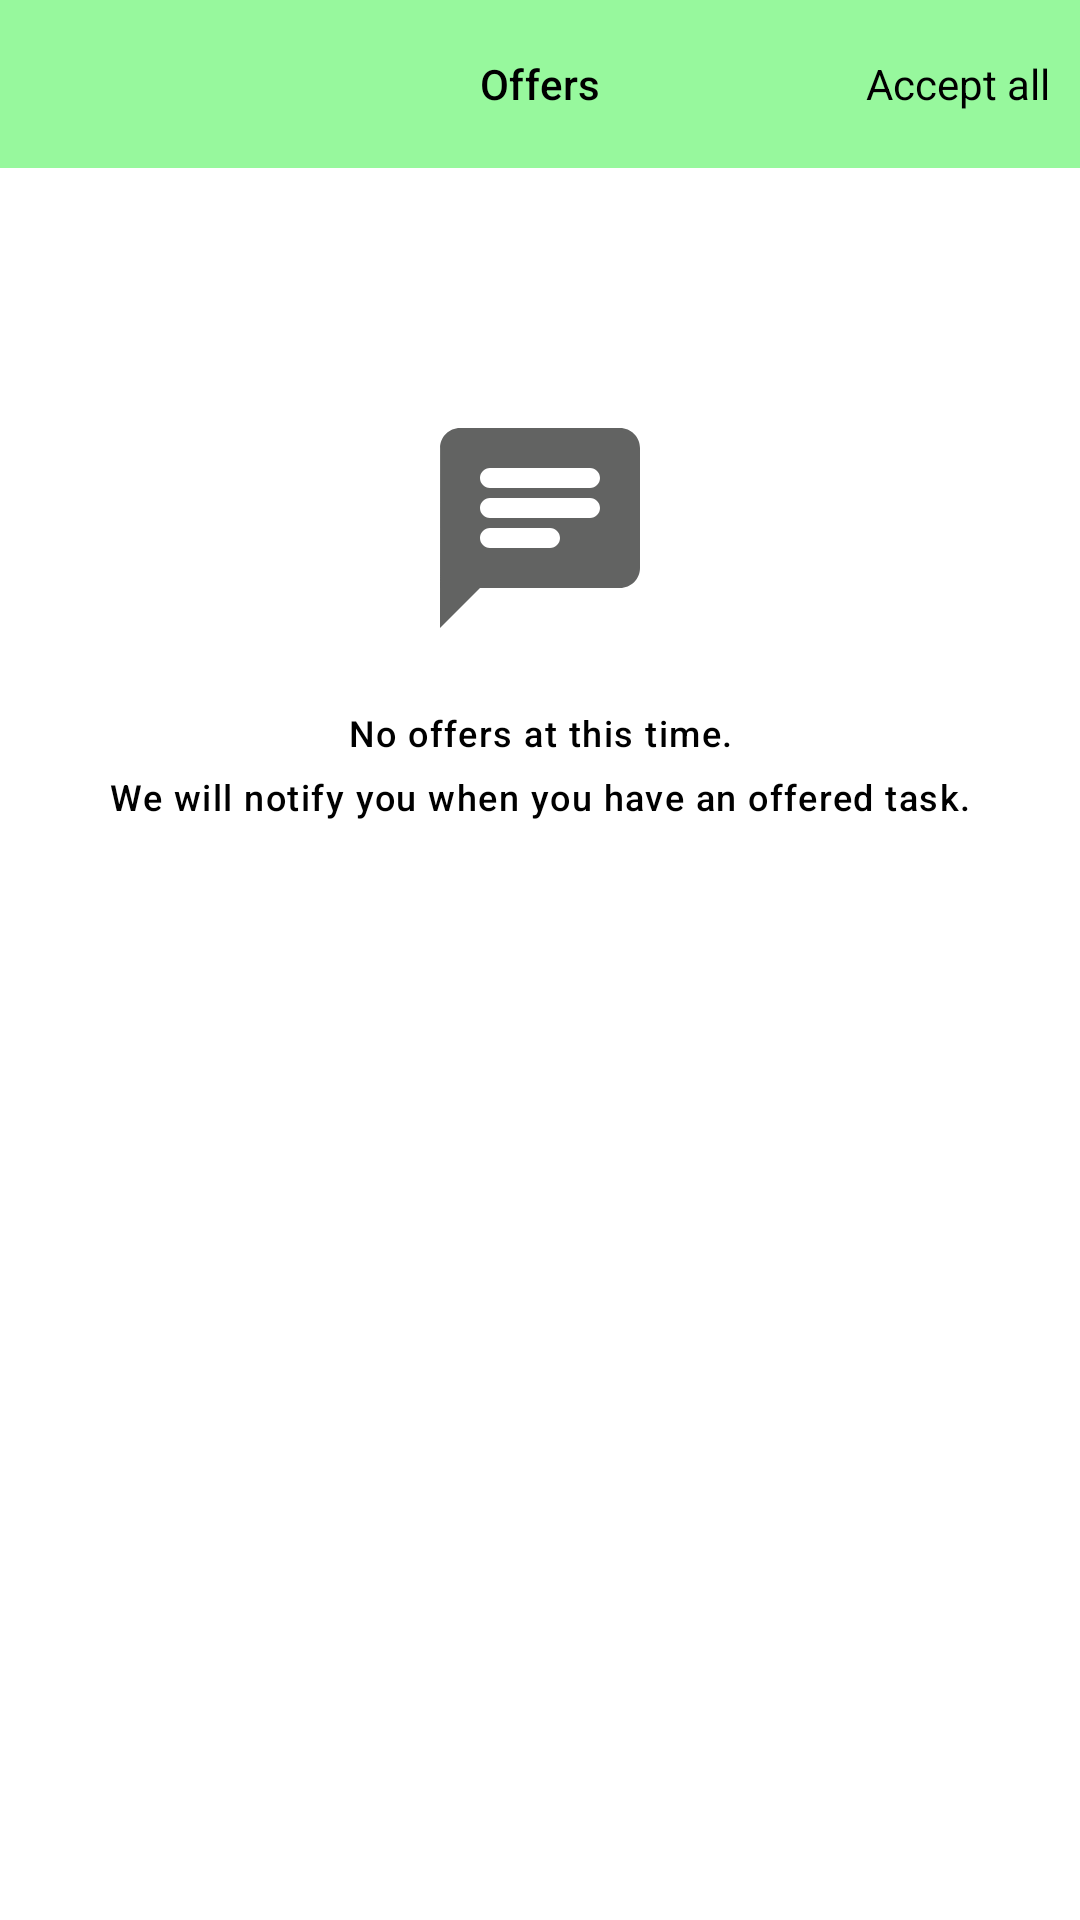

Icon click points for this 1080*1920 phone screenshot, format point (x, y):
chat: point (540, 528)
